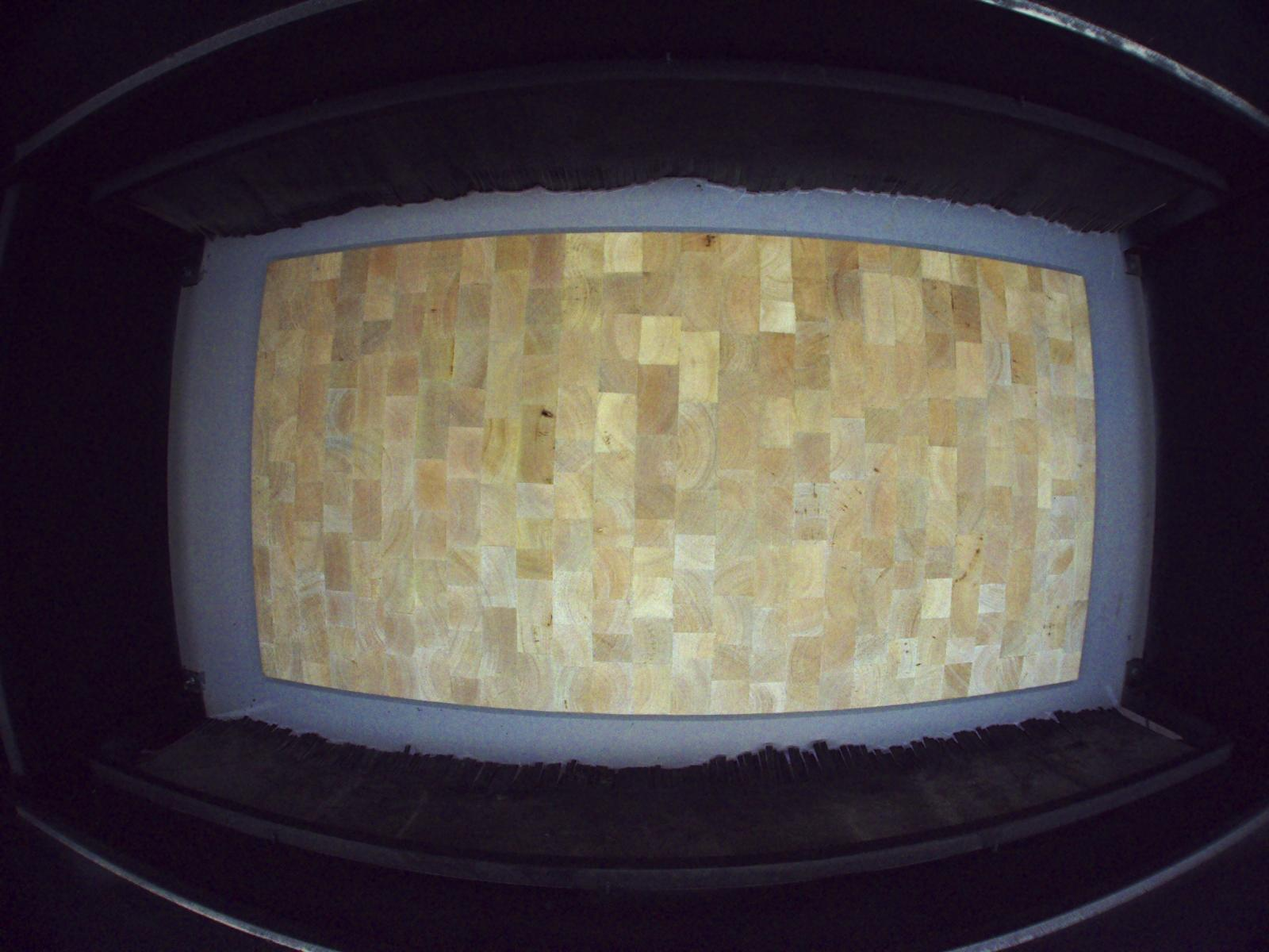sheck_ecuatoriano: (532, 405, 557, 444)
